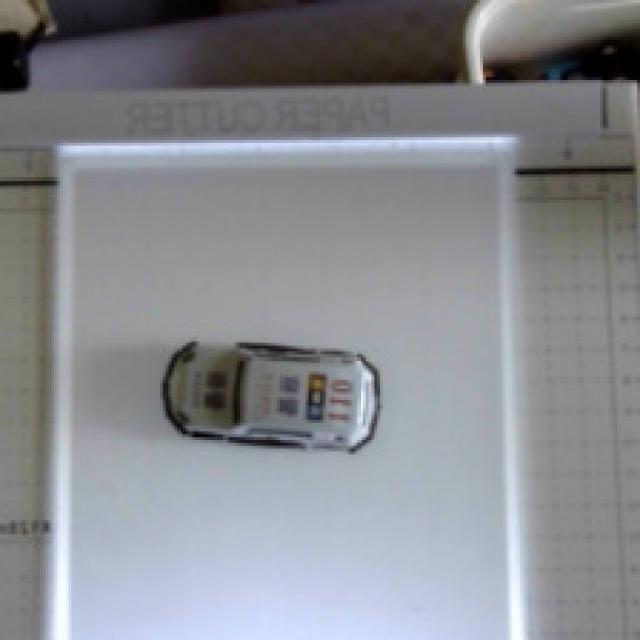Grey Car: (106, 298, 421, 473)
